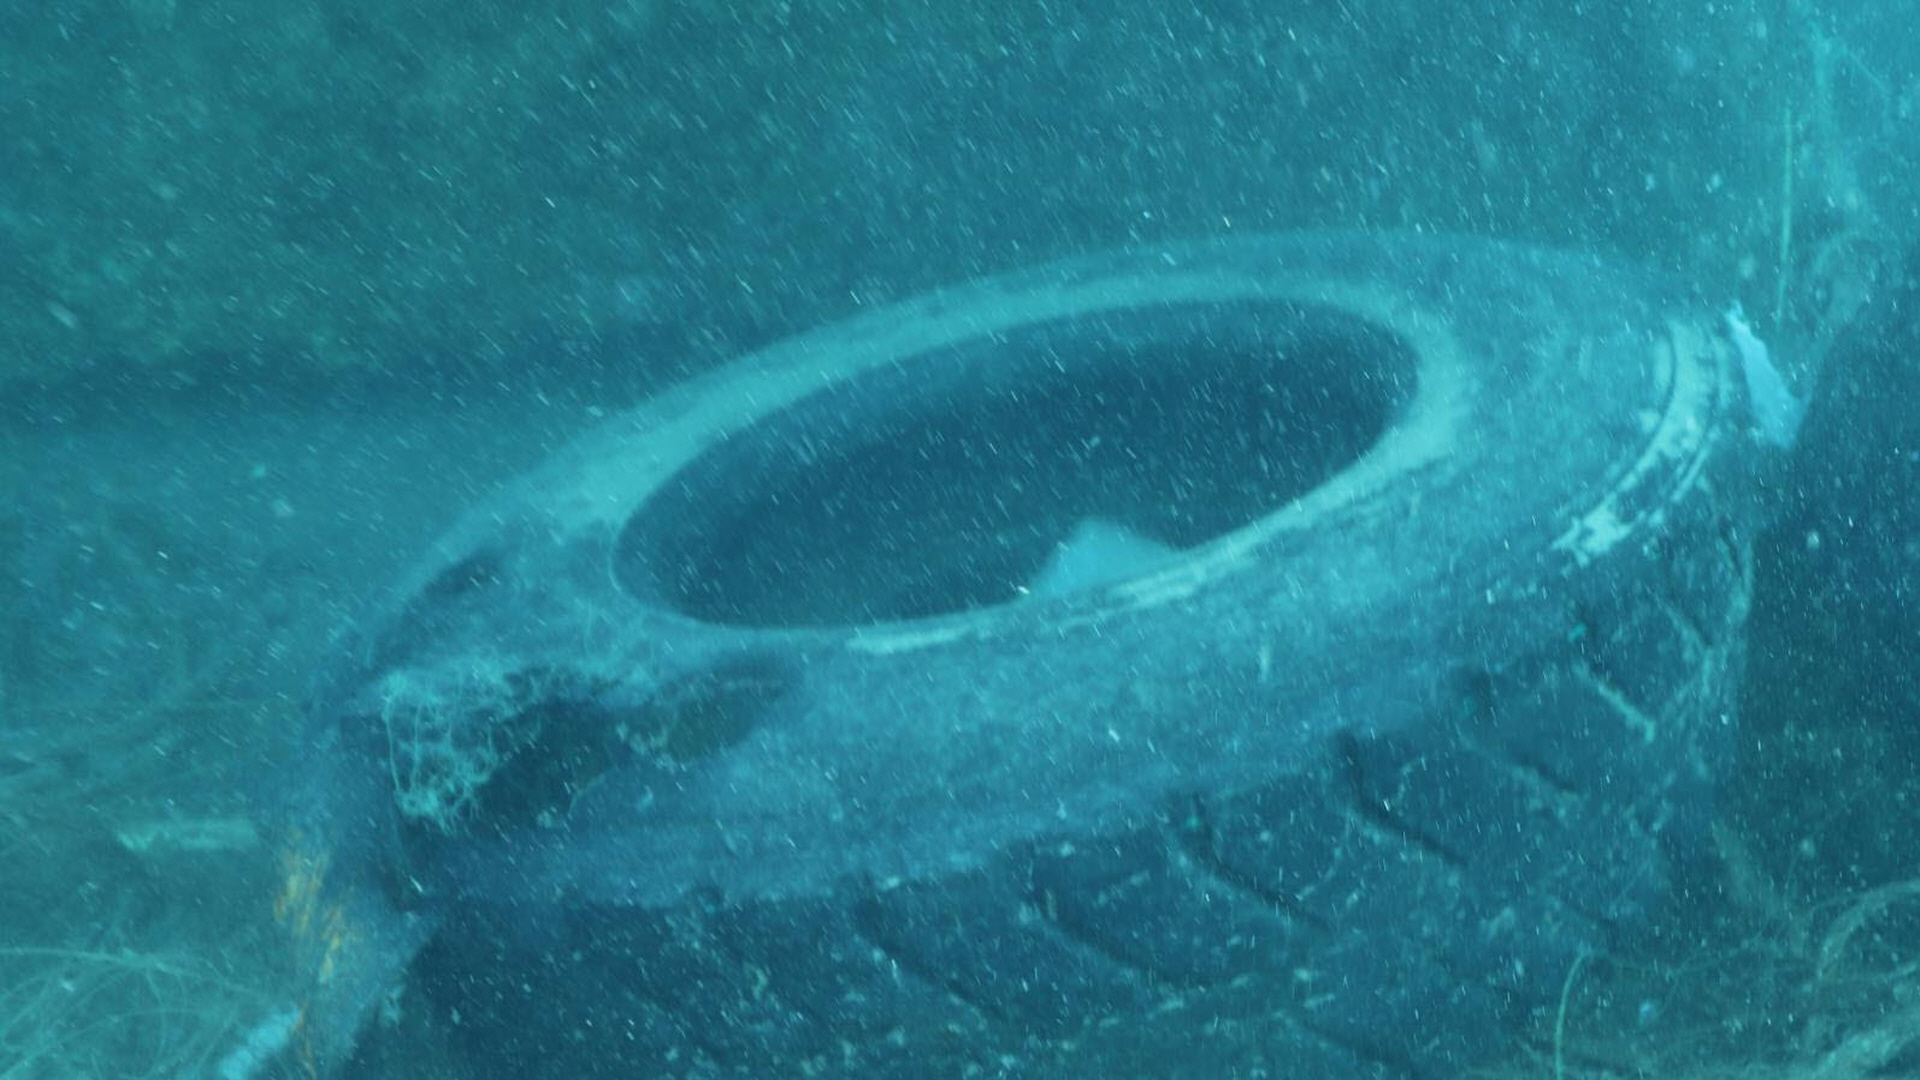tire: (330, 223, 1762, 1080)
